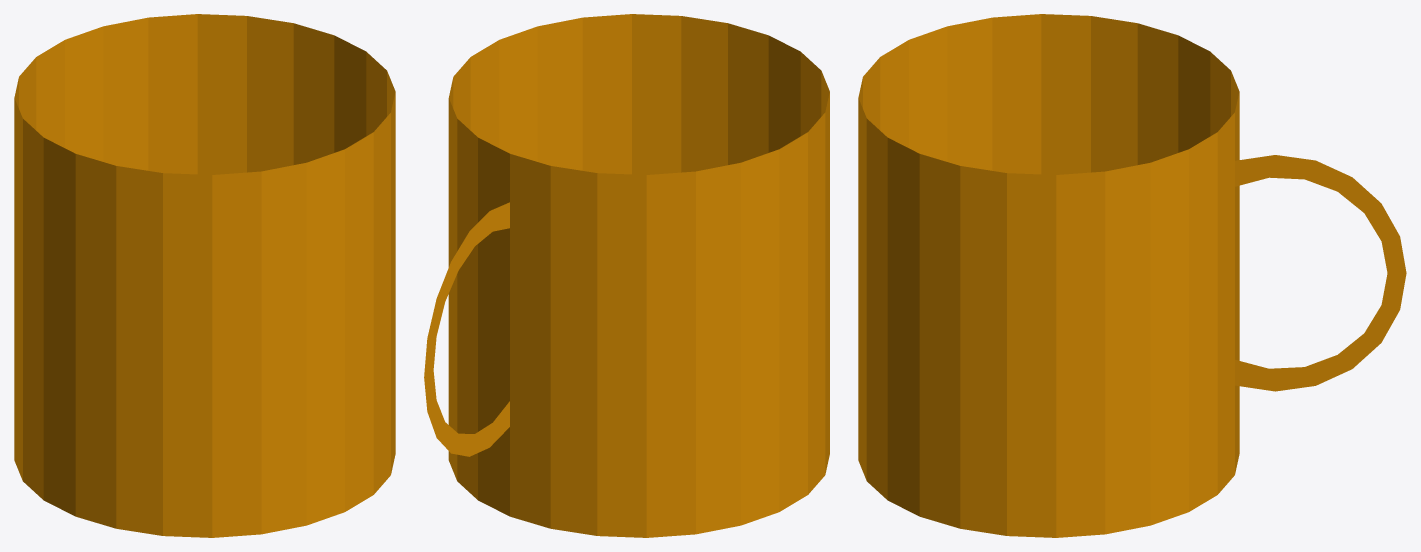
The picture shows the model from 3 angles, left to right: view 1: azimuth 30°, elevation 25°; view 2: azimuth 150°, elevation 25°; view 3: azimuth 270°, elevation 25°; orthographic projection.
Bounding box in the file's own units: 0.4895 × 0.5144 × 0.7041.
